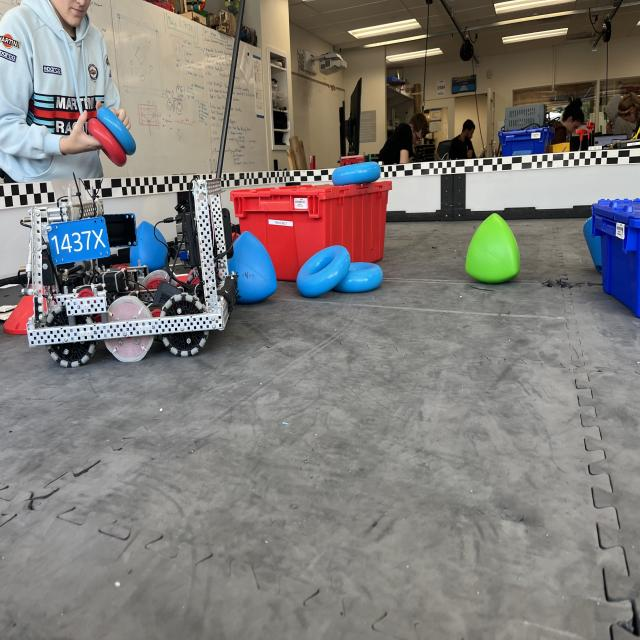Blue-Ring: (296, 245, 350, 297), (98, 107, 136, 155), (334, 262, 382, 293), (331, 162, 381, 185)
Red-Ring: (86, 118, 126, 167)
